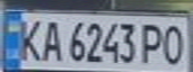2: (81, 19, 106, 64)
3: (118, 19, 142, 64)
4: (103, 19, 124, 64)
6: (63, 17, 87, 63)
A: (36, 17, 66, 63)
K: (15, 16, 48, 63)
O: (157, 20, 190, 66)
P: (139, 20, 169, 65)
